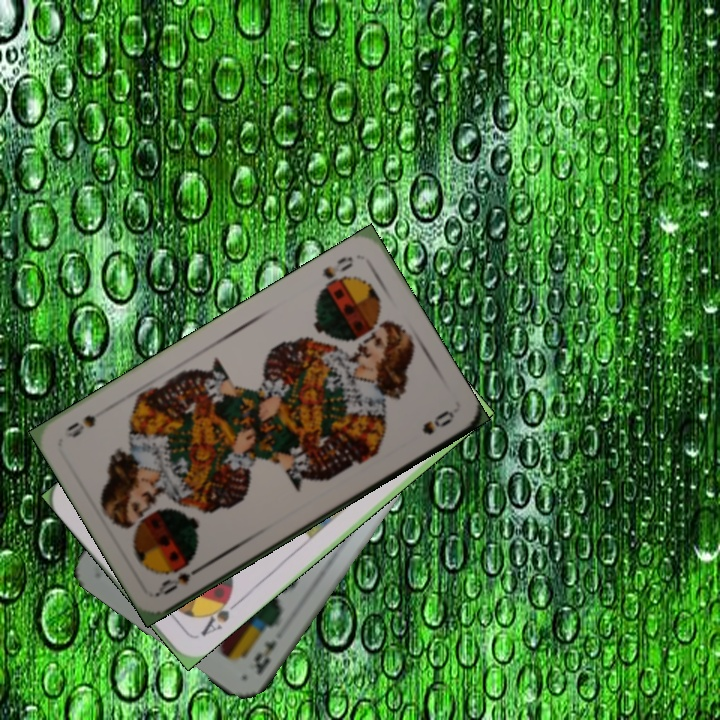EK: (250, 636, 280, 678)
SA: (196, 590, 241, 639)
SO: (154, 560, 209, 598), (315, 252, 357, 295)
